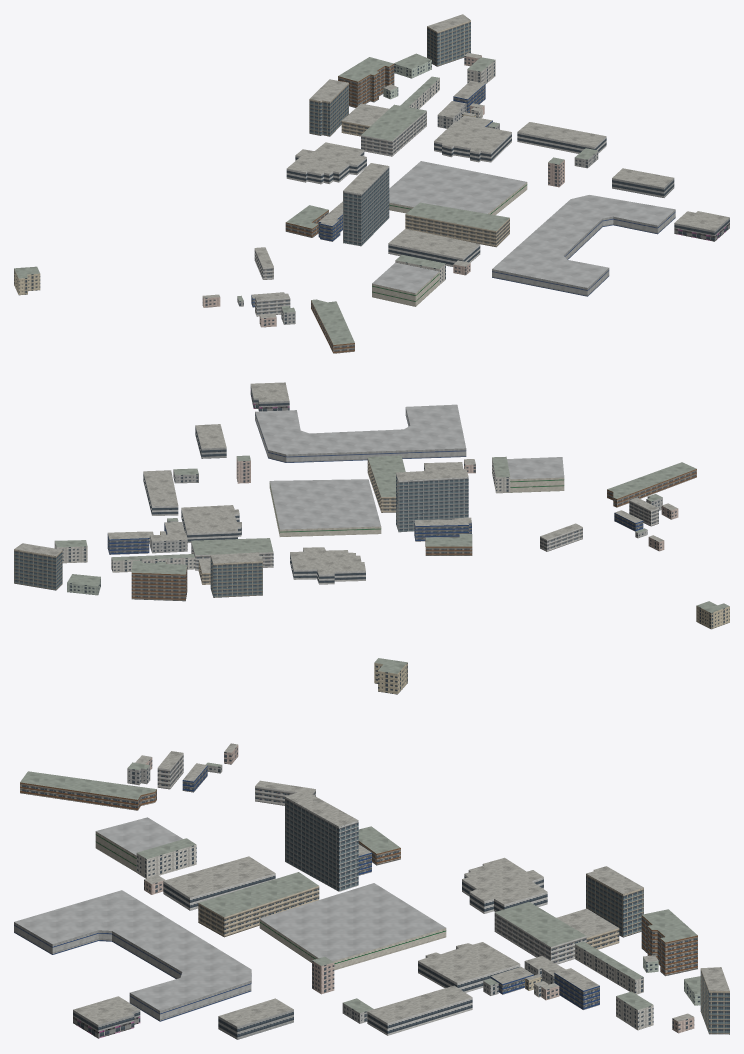
File: ArahaTown_Block_W02048_S02048.gltf
The picture shows the model from 3 angles, top to bottom: view 1: azimuth 30°, elevation 25°; view 2: azimuth 150°, elevation 25°; view 3: azimuth 270°, elevation 25°; orthographic projection. The views are drawn at different scales.
Visible parts, largest first — view 1: ArahaTown_Block_W02048_S02048; view 2: ArahaTown_Block_W02048_S02048; view 3: ArahaTown_Block_W02048_S02048.
Boxes of the visible parts, x1,y1,x2,y2 form: ArahaTown_Block_W02048_S02048: (14, 14, 729, 353); ArahaTown_Block_W02048_S02048: (14, 382, 729, 629); ArahaTown_Block_W02048_S02048: (14, 658, 729, 1039).
Bounding box in the file's own units: 536 × 46.39 × 445.
19 materials, 19 textured.
